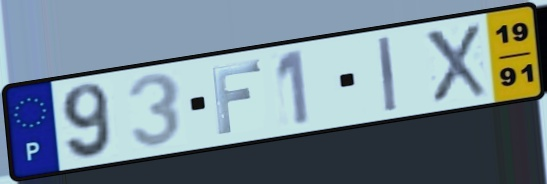1: (271, 47, 312, 130)
3: (124, 69, 185, 151)
9: (61, 78, 119, 161)
F: (208, 58, 264, 137)
I: (374, 34, 399, 115)
X: (420, 21, 491, 105)
